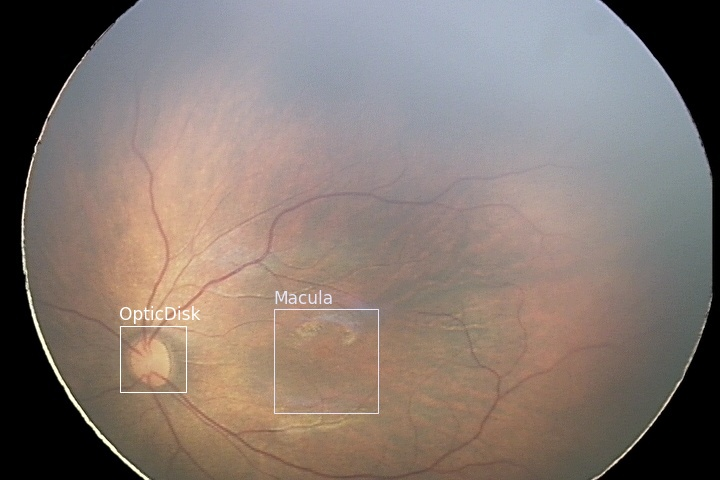Macula: (273, 308, 377, 412)
OpticDisk: (119, 325, 185, 391)
